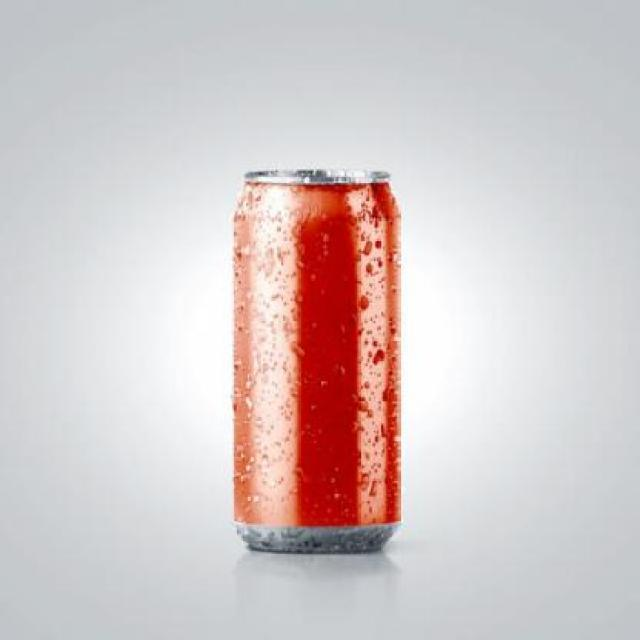can: (211, 156, 424, 566)
